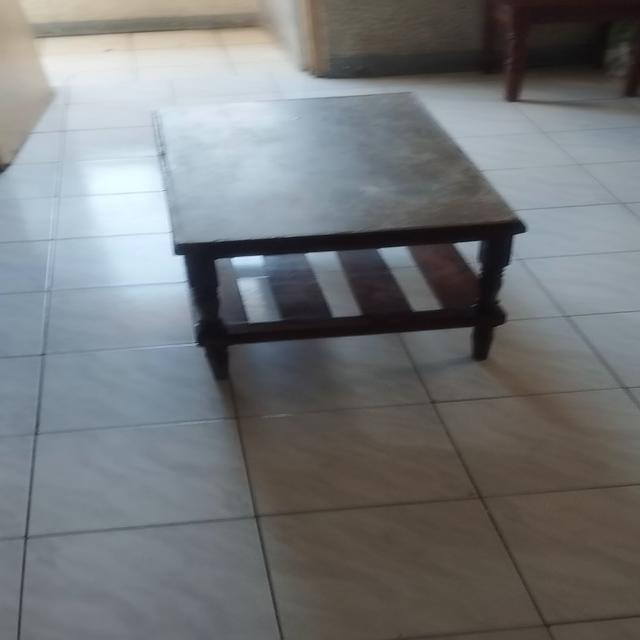table: (144, 83, 526, 375)
